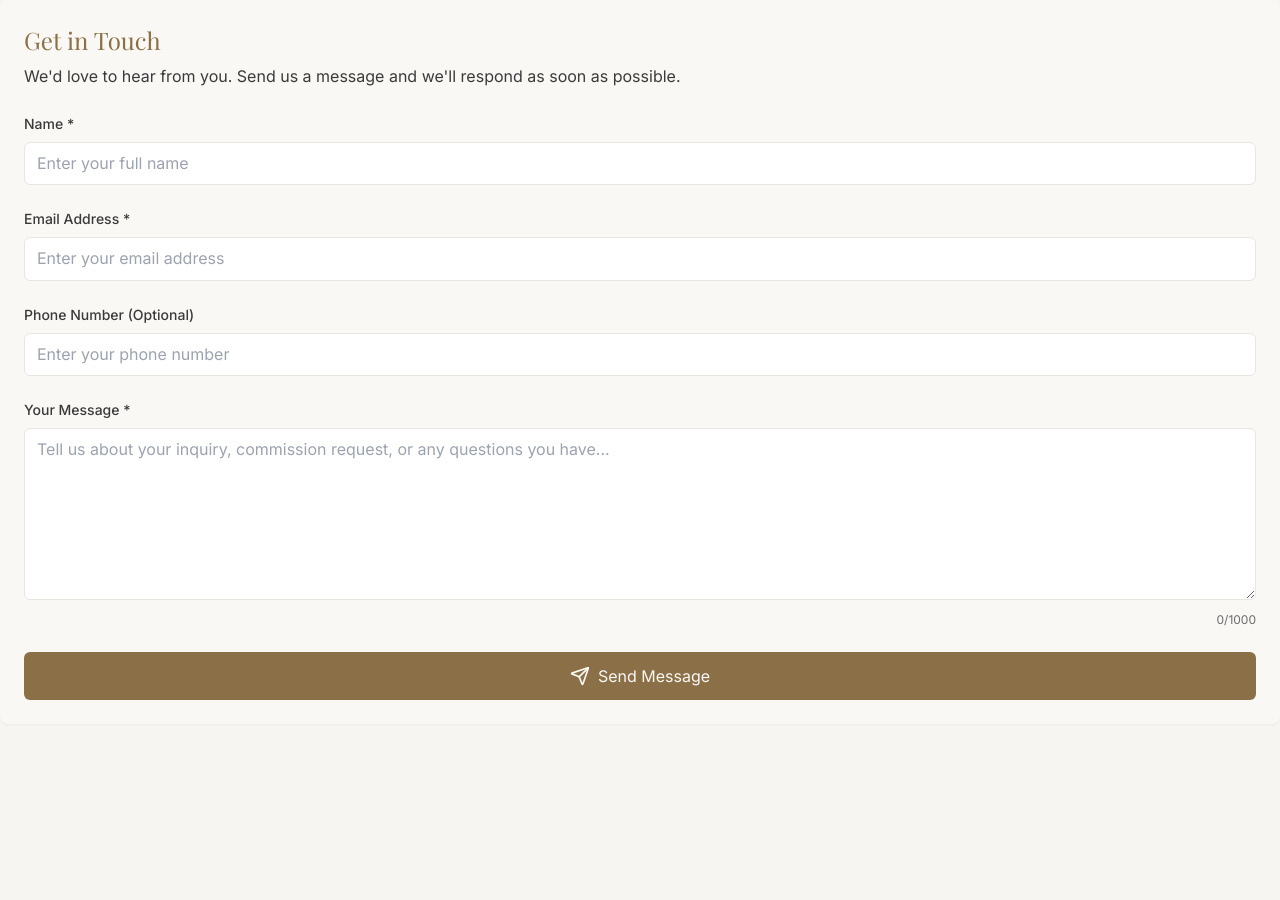
Test: ContactFormSubmit › Real-time Validation Feedback › should clear error messages when user starts typing
Submit the form named "send message"
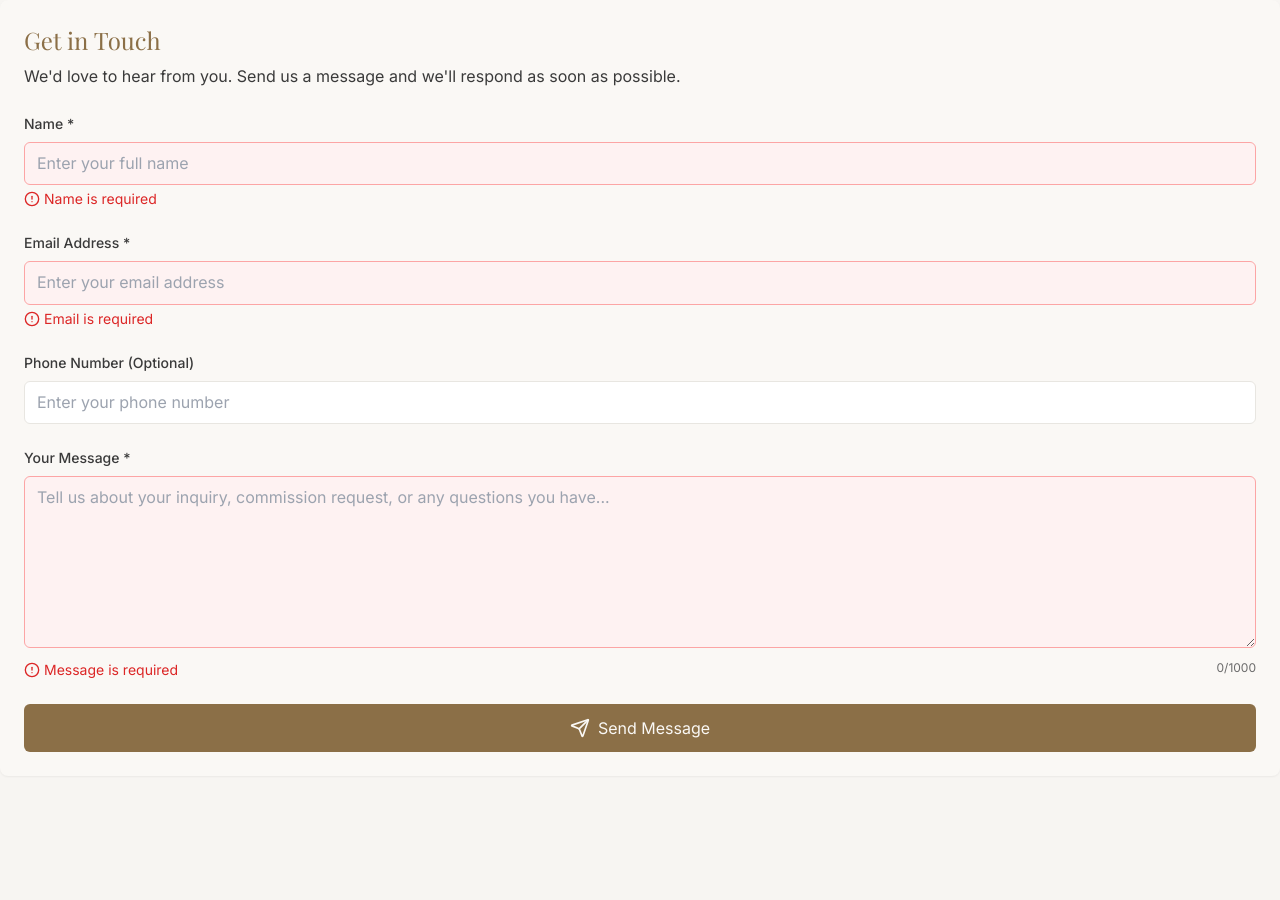
Result: the text "Name is required" is shown at x1=44 y1=189 x2=157 y2=209
Result: the text "Email is required" is shown at x1=44 y1=309 x2=153 y2=329
Result: the text "Message is required" is shown at x1=44 y1=660 x2=178 y2=680
# Start typing in name field
In the field labelled "Name *": (640, 163) x1=24 y1=142 x2=1256 y2=185, type "J"
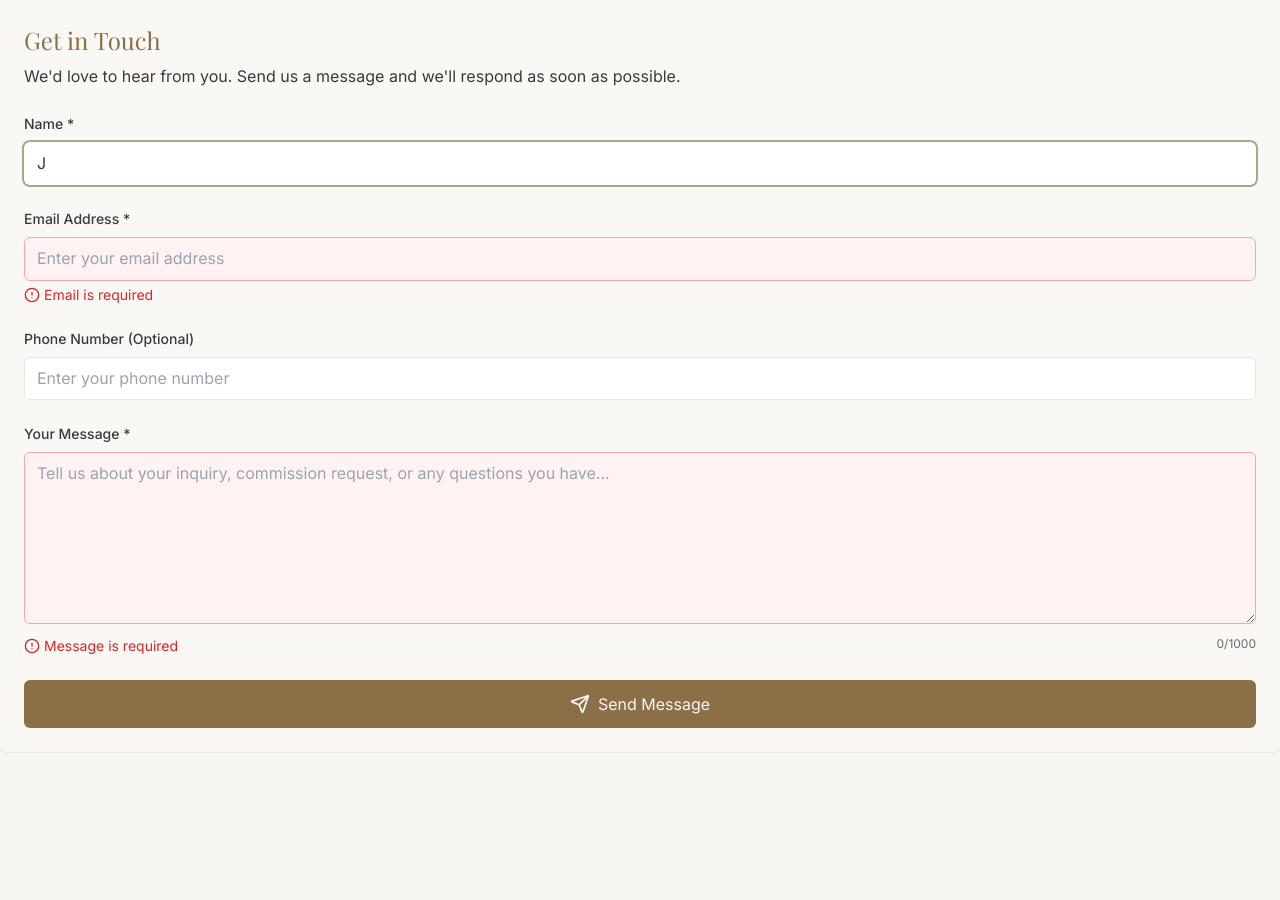
Result: the text "Name is required" is gone
# Start typing in email field
In the field labelled "Email Address *": (640, 259) x1=24 y1=237 x2=1256 y2=281, type "t"
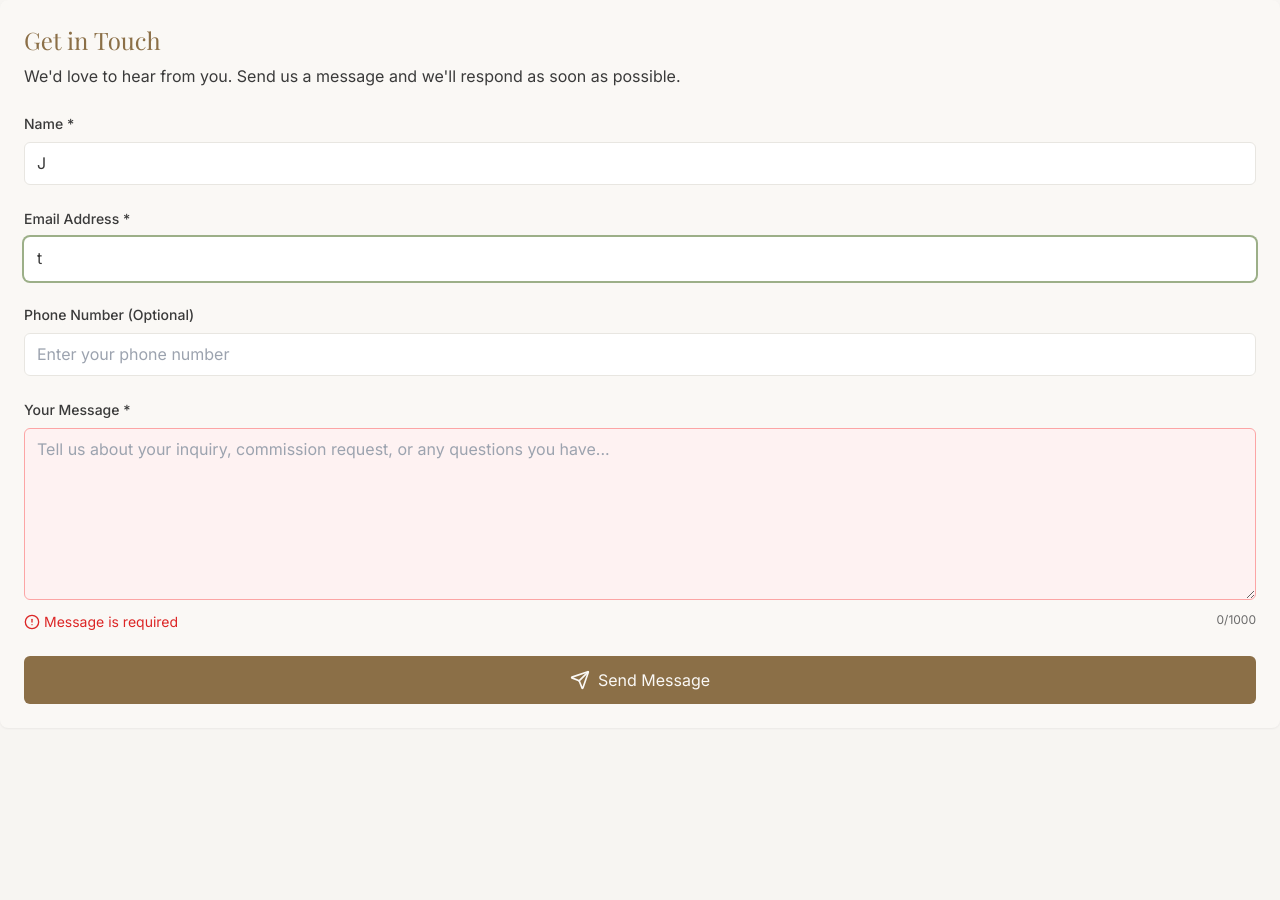
Result: the text "Email is required" is gone
# Start typing in message field
In the text box labelled "Your Message *": (640, 514) x1=24 y1=428 x2=1256 y2=600, type "T"
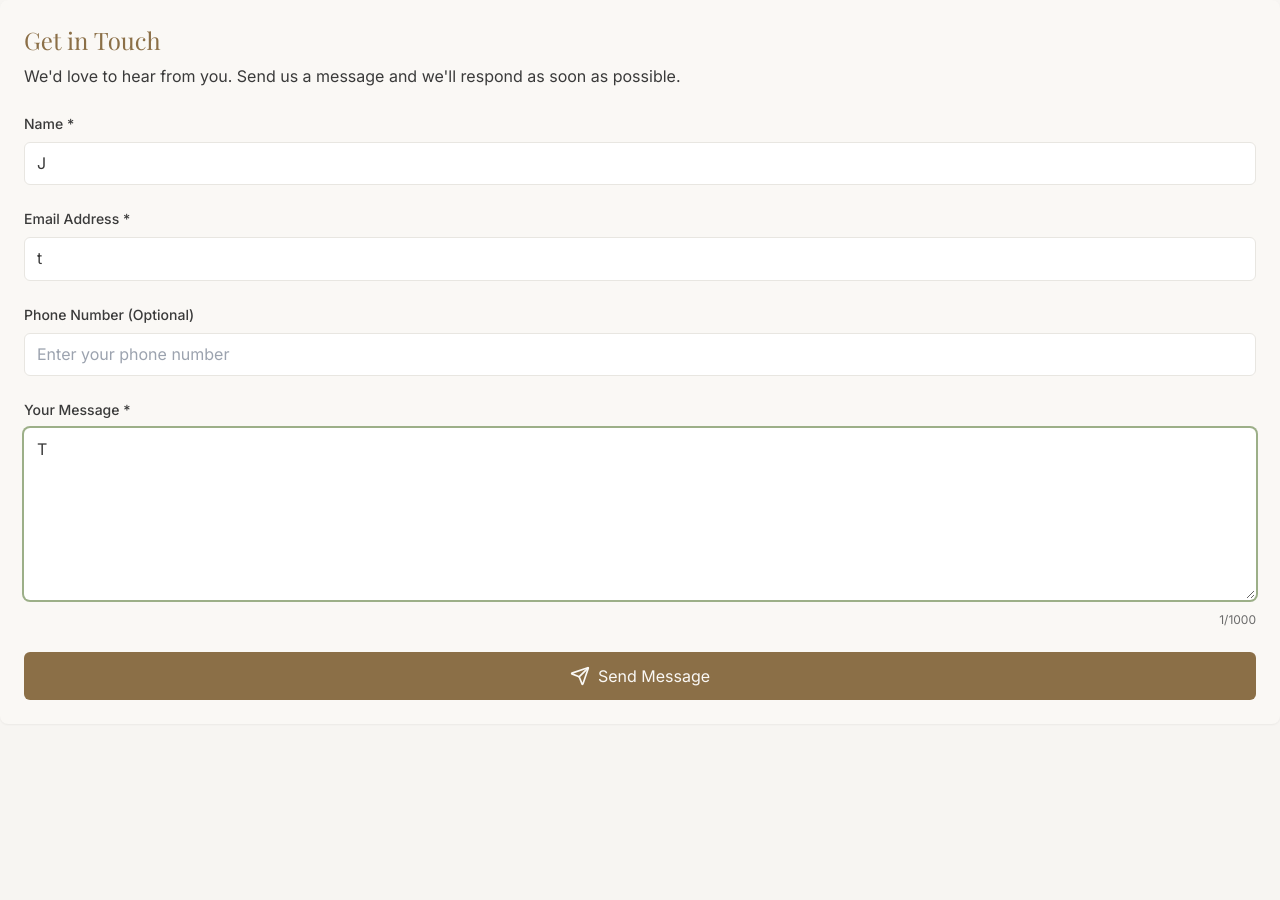
Result: the text "Message is required" is gone
